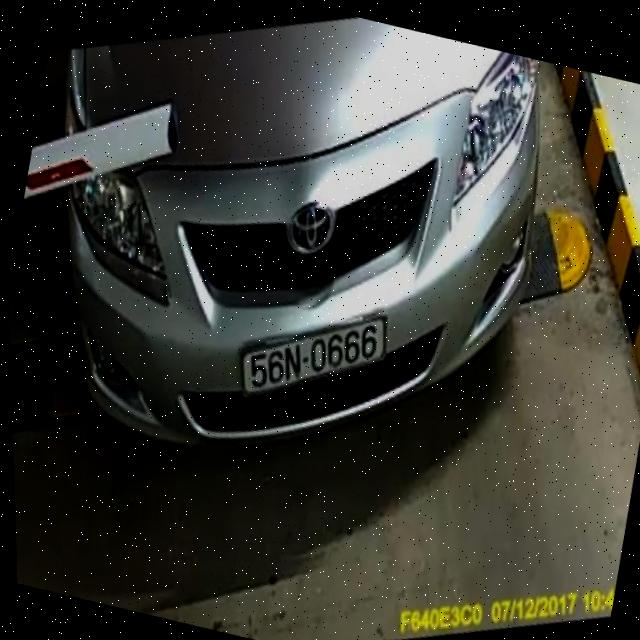car: (0, 0, 582, 529)
plate: (231, 284, 397, 429)
